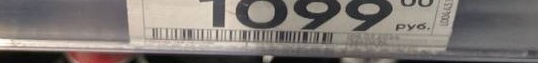1d: (151, 27, 335, 46)
